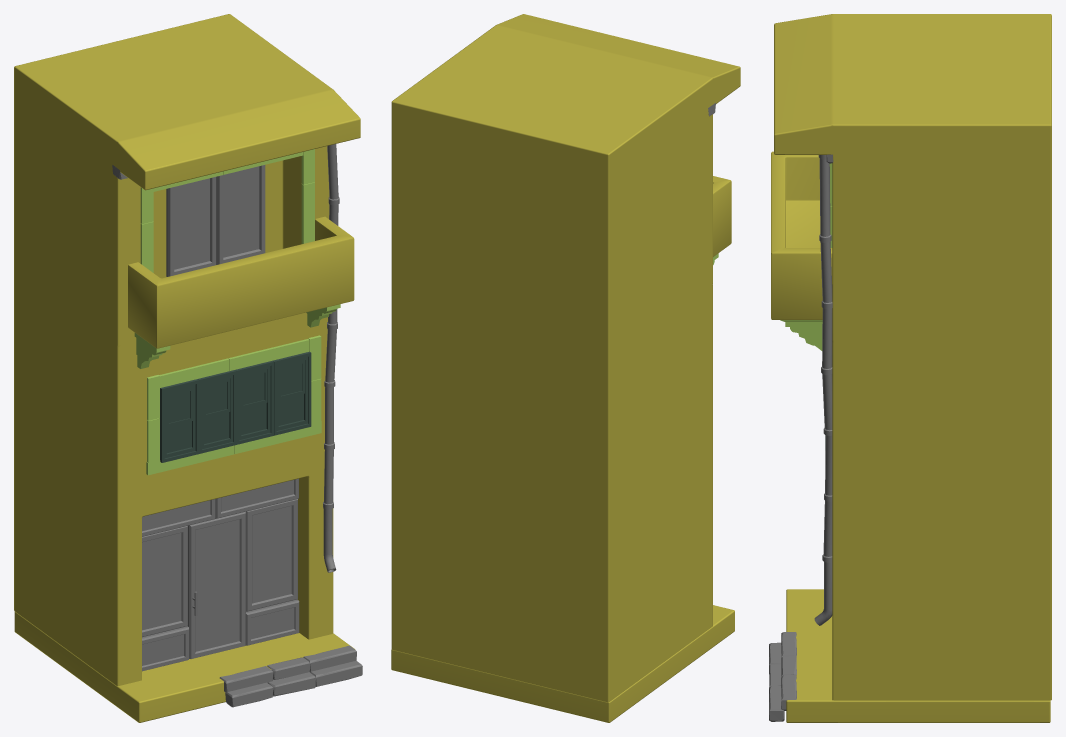
Rendered from SM_building_shop_03.fbx.
3 views of the same model, side by side, from view 1: azimuth 30°, elevation 25°; view 2: azimuth 150°, elevation 25°; view 3: azimuth 270°, elevation 25° (orthographic). The views are drawn at different scales.
Parts seen in each view (by area): view 1: Object32683; view 2: Object32683; view 3: Object32683.
Boxes of the visible parts, <box> form: Object32683: <box>14,14,362,722</box>; Object32683: <box>391,14,740,722</box>; Object32683: <box>769,14,1051,722</box>.
Bounding box in the file's own units: 167 × 414 × 177.
